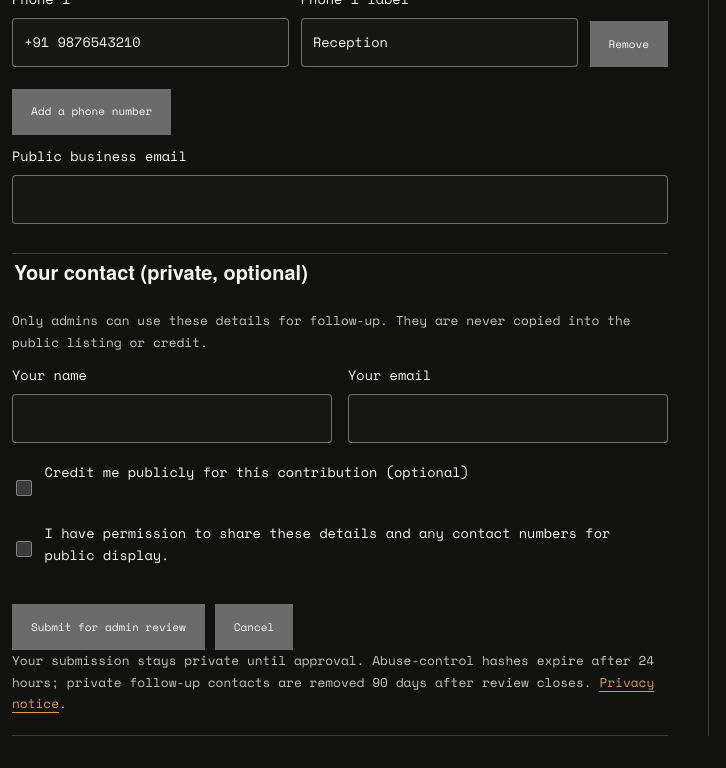
it: retains a pin only when the locality is unchanged (changed=false)
(page scrolled)
Click the checkbox labelled "I have permission": (24, 549) [16,527,32,571]
(page scrolled)
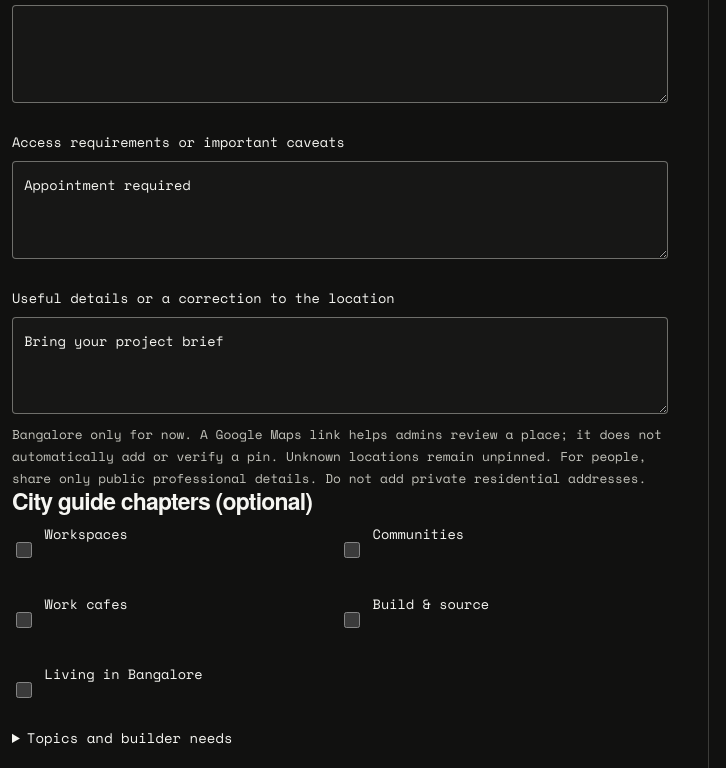
Submit the form named "Submit for admin review"
(page scrolled)
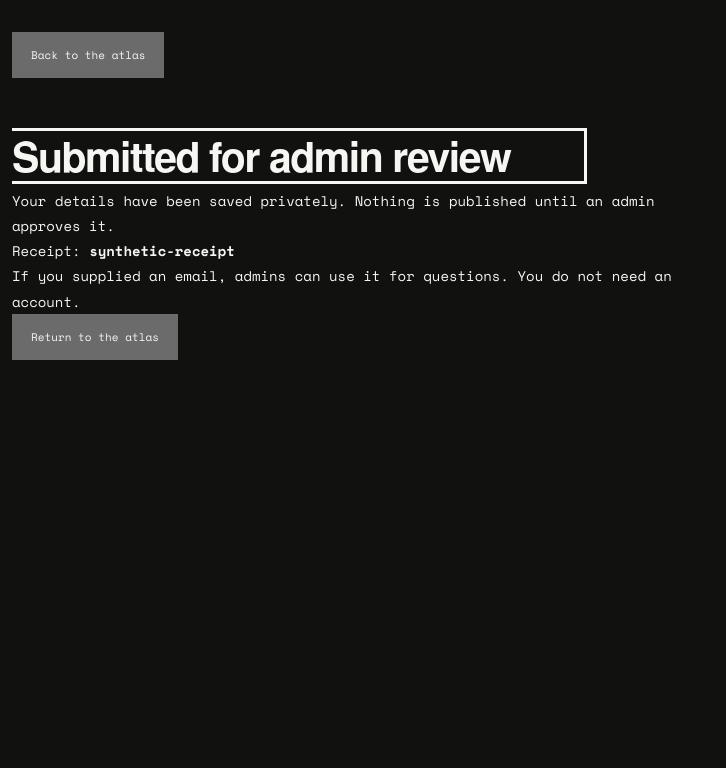
Result: the text "synthetic-receipt" is shown at [89,240,235,261]
